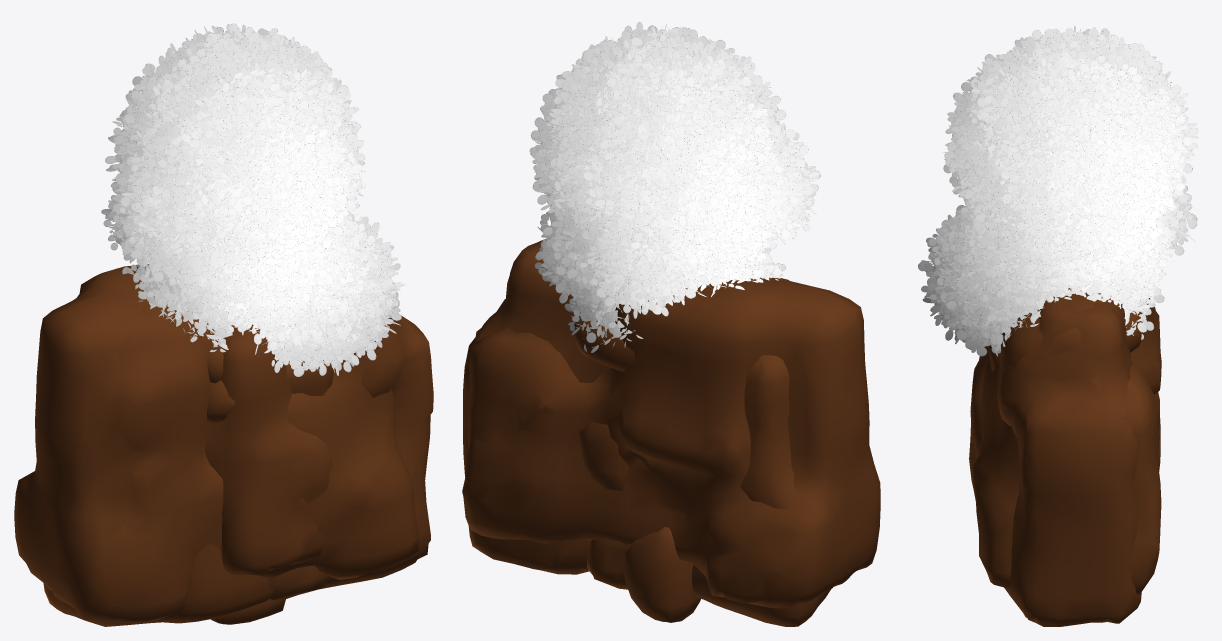
The model's file is SlimyModels_Environment.fbx.
The picture shows the model from 3 angles, left to right: view 1: azimuth 30°, elevation 25°; view 2: azimuth 150°, elevation 25°; view 3: azimuth 270°, elevation 25°; orthographic projection. The views are drawn at different scales.
Visible parts, largest first — view 1: TreeALeaves, RockWideB, RockTallB, RockWideA, RockFlatA, RockTallA; view 2: RockWideB, TreeALeaves, RockWideA, RockTallA, RockTallB, RockFlatB; view 3: TreeALeaves, RockWideA, RockWideB, RockTallB, RockFlatB.
Part boxes in pixels (x1,y1,x2,y2): TreeALeaves: (101, 23, 405, 376); RockWideB: (14, 264, 418, 623); RockTallB: (205, 324, 332, 624); RockWideA: (43, 304, 433, 626); RockFlatA: (207, 360, 333, 569); RockTallA: (268, 393, 327, 599); RockWideB: (462, 277, 880, 608); TreeALeaves: (529, 22, 820, 352); RockWideA: (463, 239, 830, 626); RockTallA: (624, 527, 700, 622); RockTallB: (579, 421, 630, 589); RockFlatB: (574, 315, 635, 371); TreeALeaves: (918, 26, 1198, 356); RockWideA: (997, 288, 1141, 626); RockWideB: (973, 290, 1161, 594); RockTallB: (969, 346, 988, 488); RockFlatB: (1126, 311, 1146, 352).
Bounding box in the file's own units: 8.76 × 12.8 × 6.35.
